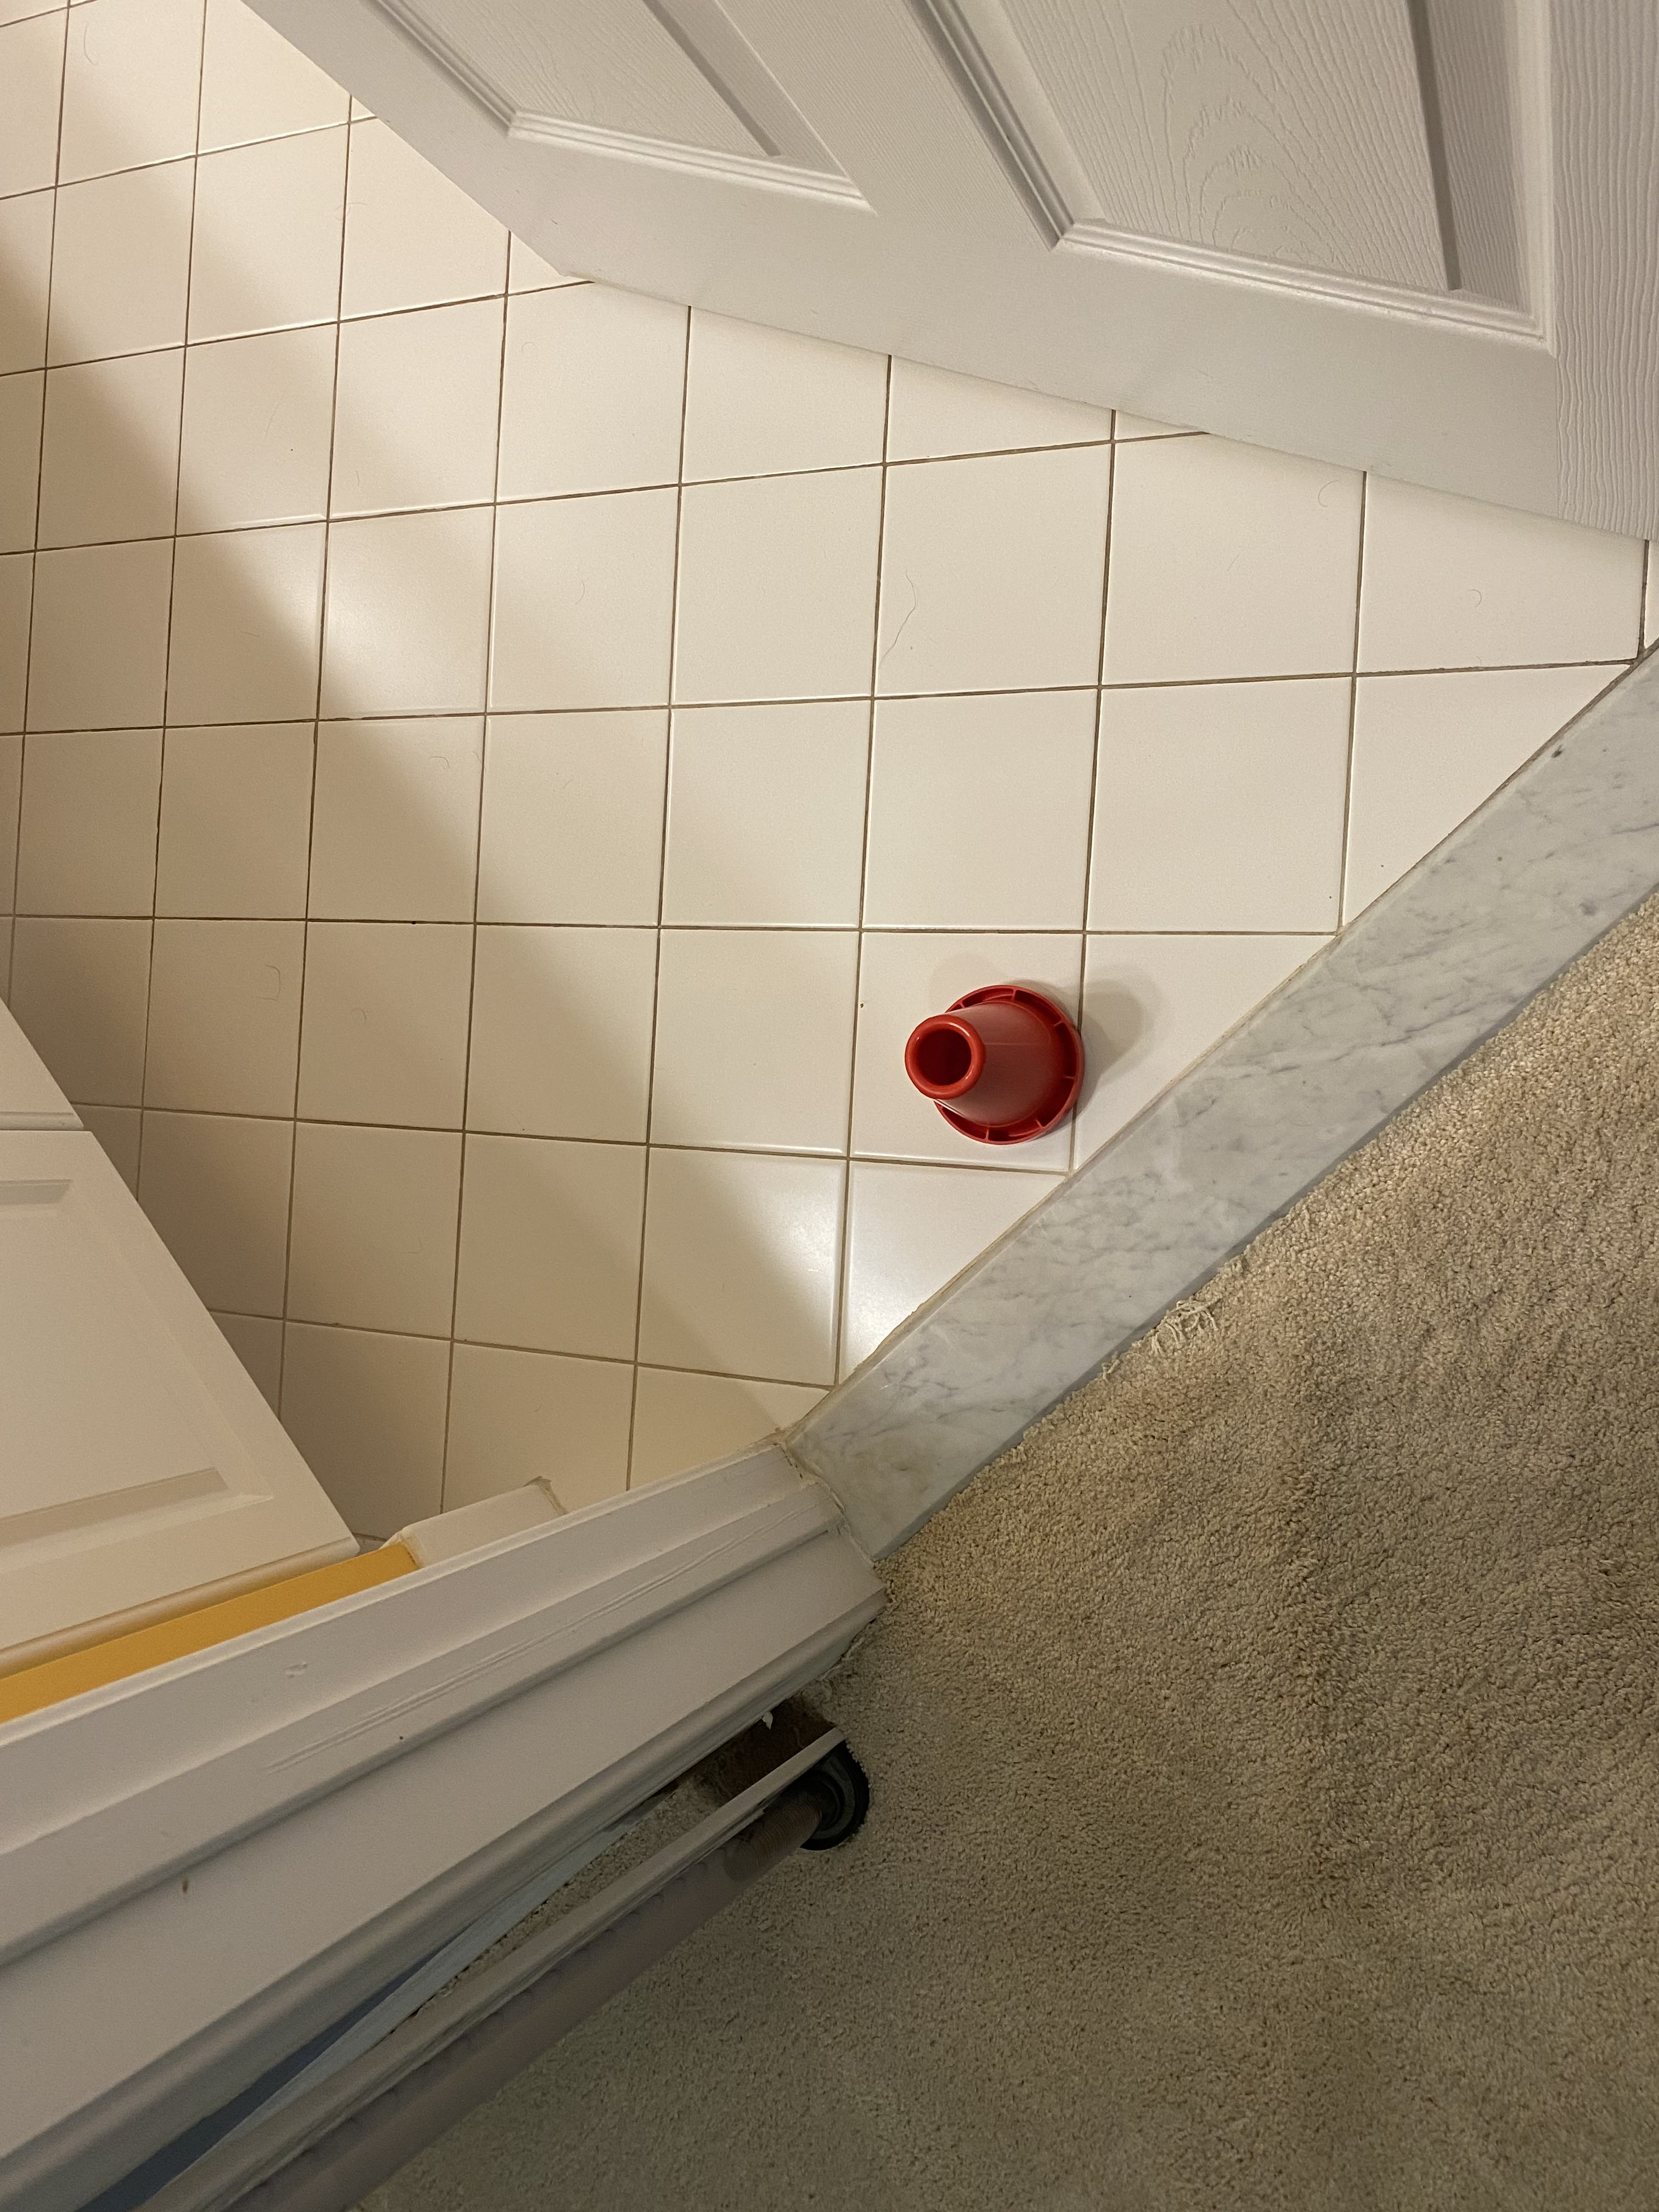redCone: (903, 972, 1087, 1148)
